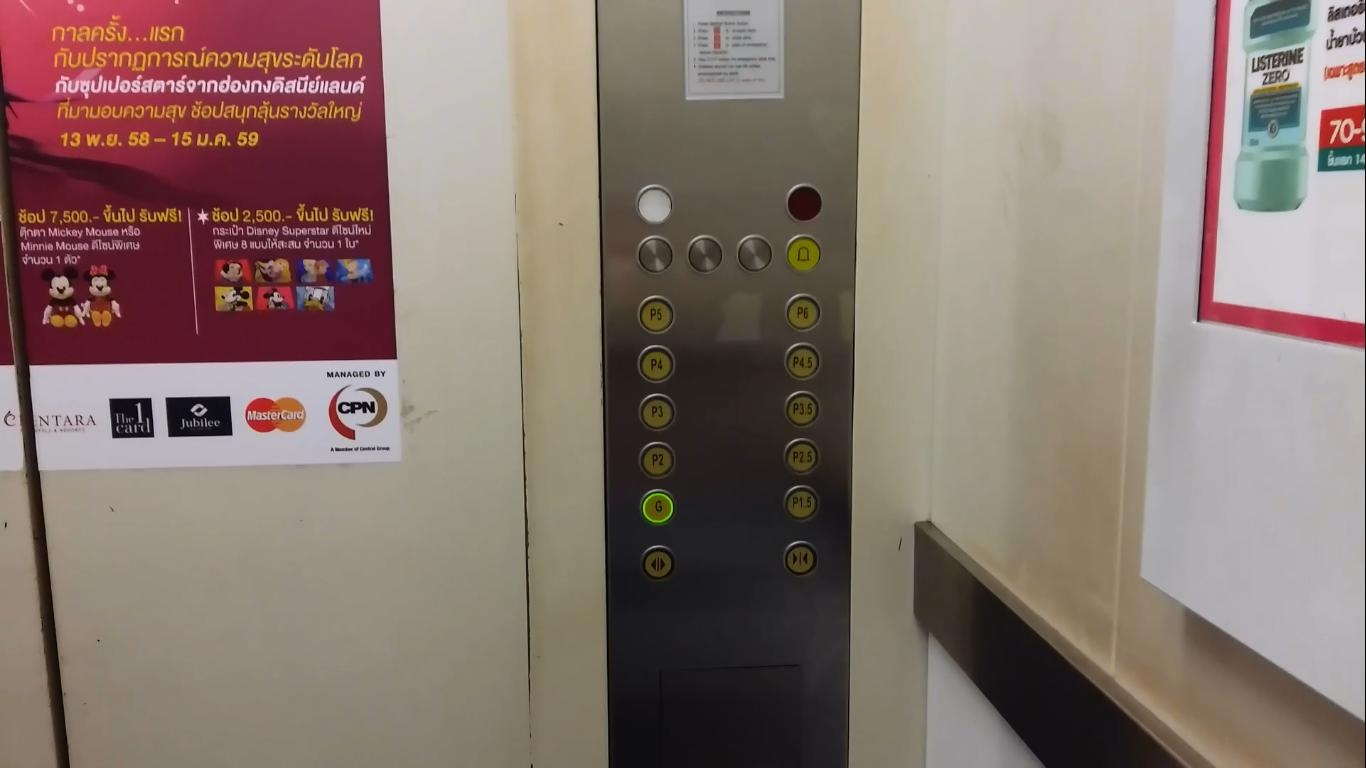G: (637, 487, 678, 527)
P15: (782, 484, 822, 523)
P2: (637, 441, 678, 481)
P25: (784, 438, 822, 478)
P3: (636, 392, 677, 432)
P35: (783, 387, 823, 429)
P4: (636, 344, 678, 383)
P45: (783, 340, 822, 381)
P5: (636, 294, 676, 334)
P6: (783, 292, 822, 332)
alarm: (783, 232, 824, 273)
close: (782, 541, 819, 577)
empty: (635, 234, 676, 277), (684, 235, 724, 277), (634, 184, 673, 227), (785, 181, 824, 223), (735, 234, 774, 273)
open: (638, 543, 677, 581)
